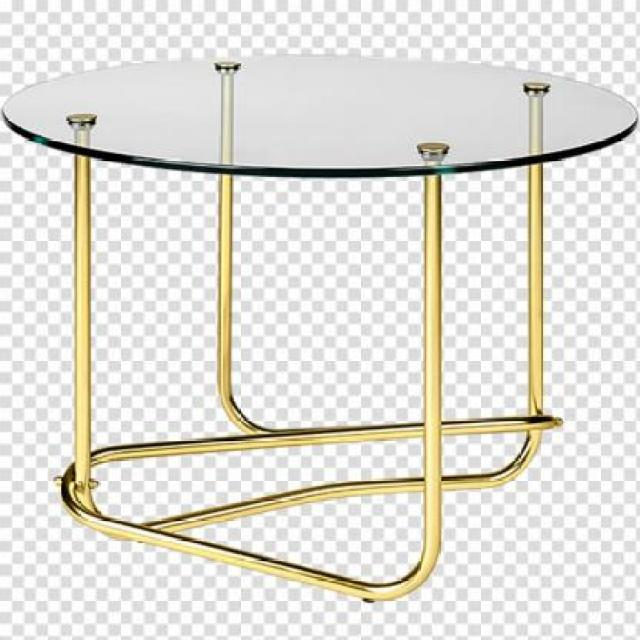table: (1, 49, 640, 600)
